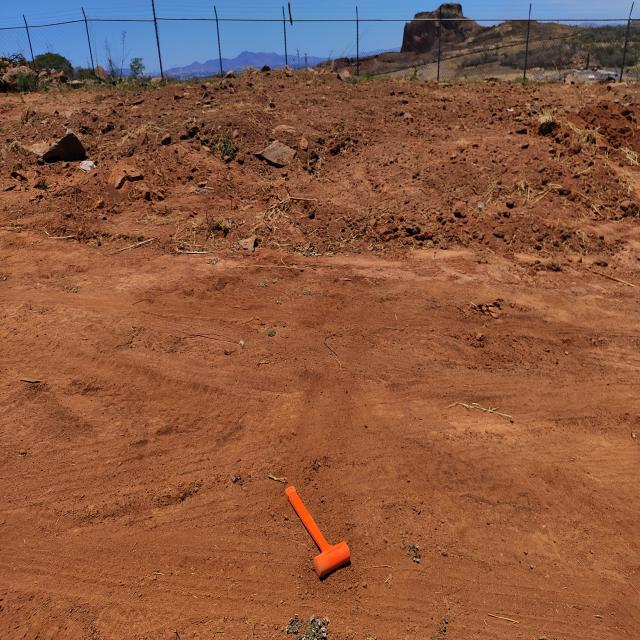Orange_hammer: (284, 483, 351, 580)
